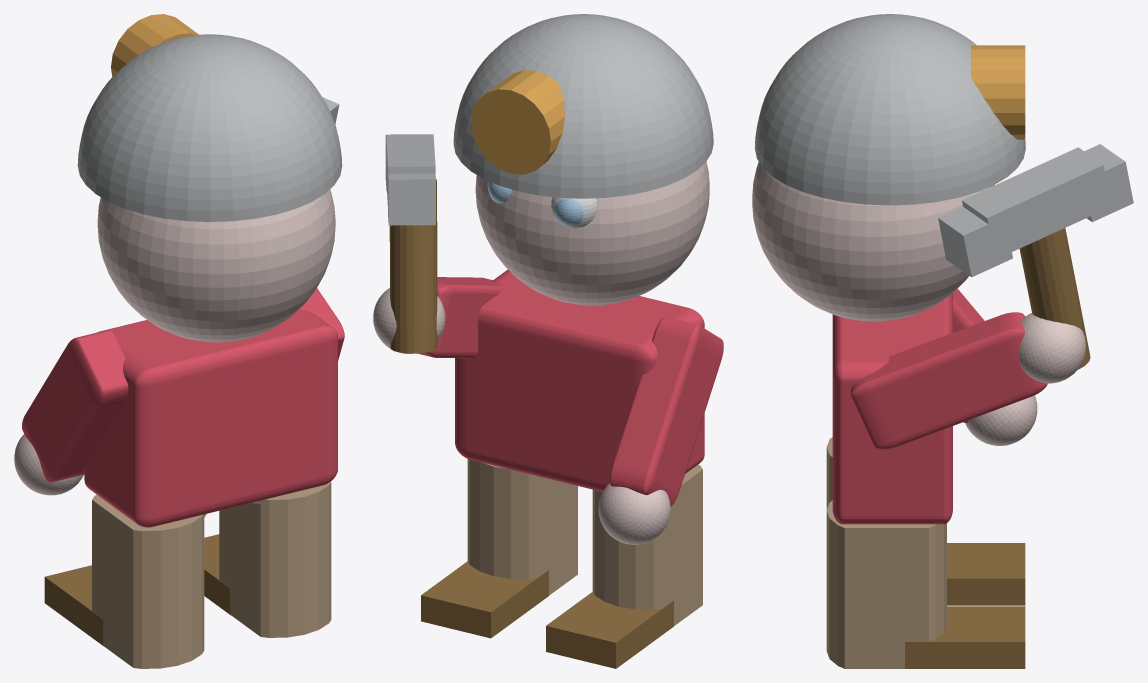
The model's file is miner.glb.
3 renders of one model, left to right at view 1: azimuth 30°, elevation 25°; view 2: azimuth 150°, elevation 25°; view 3: azimuth 270°, elevation 25°, orthographic. The views are drawn at different scales.
Parts seen in each view (by area): view 1: Mesh_Mesh_head_geo.001_lambert2SG.001; view 2: Mesh_Mesh_head_geo.001_lambert2SG.001; view 3: Mesh_Mesh_head_geo.001_lambert2SG.001.
Boxes of the visible parts, box(x1,y1,x2,y2) form: Mesh_Mesh_head_geo.001_lambert2SG.001: box(14, 14, 344, 668); Mesh_Mesh_head_geo.001_lambert2SG.001: box(373, 14, 723, 668); Mesh_Mesh_head_geo.001_lambert2SG.001: box(752, 14, 1133, 668).
Size of the model in its own units: 3.27 by 6 by 3.5.
